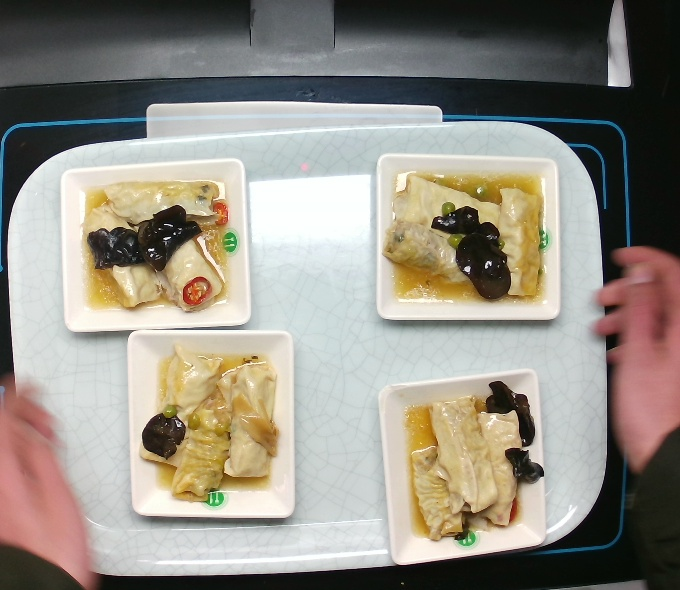wcq-QianZhangBao: (405, 377, 548, 544), (135, 345, 281, 505), (378, 167, 544, 304), (77, 179, 230, 317)
